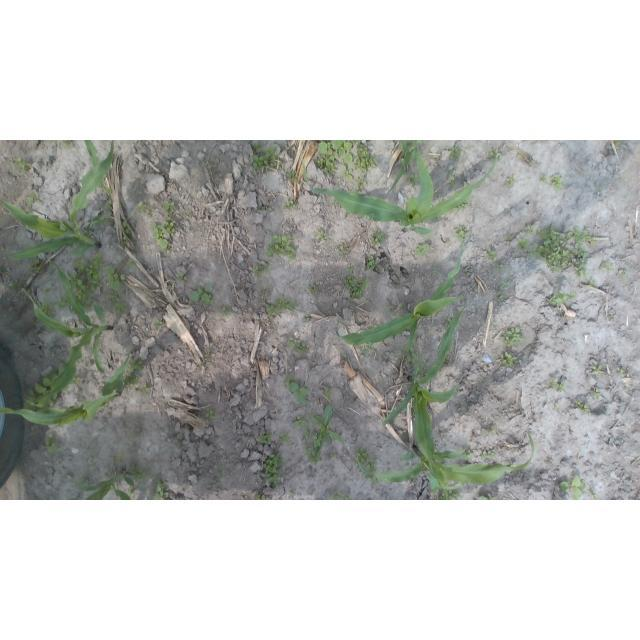Maize: (304, 150, 498, 236), (380, 305, 466, 494), (1, 140, 116, 261), (21, 259, 113, 409), (339, 240, 464, 349), (357, 434, 533, 494), (0, 352, 132, 427), (387, 141, 421, 196), (76, 470, 134, 500)
Weeds: (21, 368, 67, 413), (532, 224, 571, 272), (310, 405, 345, 444), (73, 252, 105, 290), (65, 271, 92, 313), (266, 231, 297, 261), (318, 140, 354, 164), (355, 447, 378, 484), (567, 242, 589, 279), (558, 474, 588, 500), (285, 375, 310, 405), (253, 148, 284, 171), (263, 452, 282, 488), (352, 147, 377, 174), (266, 297, 298, 317), (344, 275, 369, 299), (150, 222, 170, 251), (565, 226, 595, 245), (188, 284, 214, 305), (303, 436, 322, 464), (105, 266, 126, 291), (548, 291, 577, 307), (129, 463, 150, 482), (315, 155, 337, 173), (503, 326, 521, 347), (496, 352, 518, 369), (38, 299, 57, 318), (153, 479, 169, 500), (548, 172, 564, 192), (516, 237, 532, 257), (402, 345, 418, 364), (136, 201, 152, 219), (121, 374, 139, 390), (127, 358, 145, 374), (44, 433, 57, 455), (13, 157, 31, 172), (438, 489, 461, 500), (547, 378, 566, 391), (413, 243, 429, 258), (26, 189, 41, 205), (256, 431, 273, 445), (575, 400, 592, 414), (28, 262, 43, 277), (371, 230, 385, 246), (252, 263, 269, 275), (408, 172, 422, 186), (498, 278, 513, 291), (292, 416, 308, 428), (354, 175, 366, 191), (341, 164, 353, 180), (453, 227, 469, 239), (285, 168, 298, 182), (487, 149, 501, 162), (361, 342, 375, 355), (367, 255, 380, 269), (481, 449, 496, 461), (112, 304, 128, 315), (280, 200, 296, 211), (330, 492, 352, 500), (448, 170, 458, 187), (316, 230, 329, 243), (205, 407, 217, 421), (591, 364, 605, 376), (163, 199, 175, 213), (165, 217, 176, 232), (56, 140, 74, 149), (55, 295, 67, 308), (462, 448, 474, 461), (601, 260, 614, 272), (98, 182, 110, 195), (454, 202, 469, 212), (121, 220, 131, 234), (287, 337, 298, 349), (450, 148, 461, 160), (250, 140, 261, 152), (592, 388, 602, 401), (176, 271, 189, 281), (75, 476, 89, 485), (297, 342, 308, 353), (505, 175, 517, 185), (525, 223, 536, 233), (306, 283, 317, 293), (103, 201, 113, 212), (488, 248, 497, 260), (476, 495, 497, 500), (279, 433, 289, 443), (119, 236, 129, 246), (127, 432, 138, 441), (12, 281, 21, 292), (107, 293, 119, 301), (335, 244, 347, 252), (591, 488, 598, 501), (142, 383, 151, 393), (324, 388, 333, 397), (128, 260, 137, 269), (617, 368, 625, 378), (586, 279, 596, 287), (252, 494, 265, 500), (399, 150, 405, 163), (218, 468, 225, 479), (219, 306, 228, 314), (154, 316, 163, 324), (259, 204, 268, 212), (498, 291, 505, 301), (115, 453, 125, 460), (41, 288, 54, 293), (303, 428, 311, 436), (88, 454, 97, 461), (619, 269, 628, 276), (347, 263, 353, 273), (184, 211, 192, 218), (613, 141, 621, 148), (433, 268, 440, 276), (486, 429, 494, 436), (539, 174, 546, 181), (610, 313, 617, 320), (466, 268, 473, 274), (289, 488, 296, 494), (168, 284, 175, 290), (497, 264, 503, 270), (539, 141, 547, 144), (303, 318, 307, 323)
